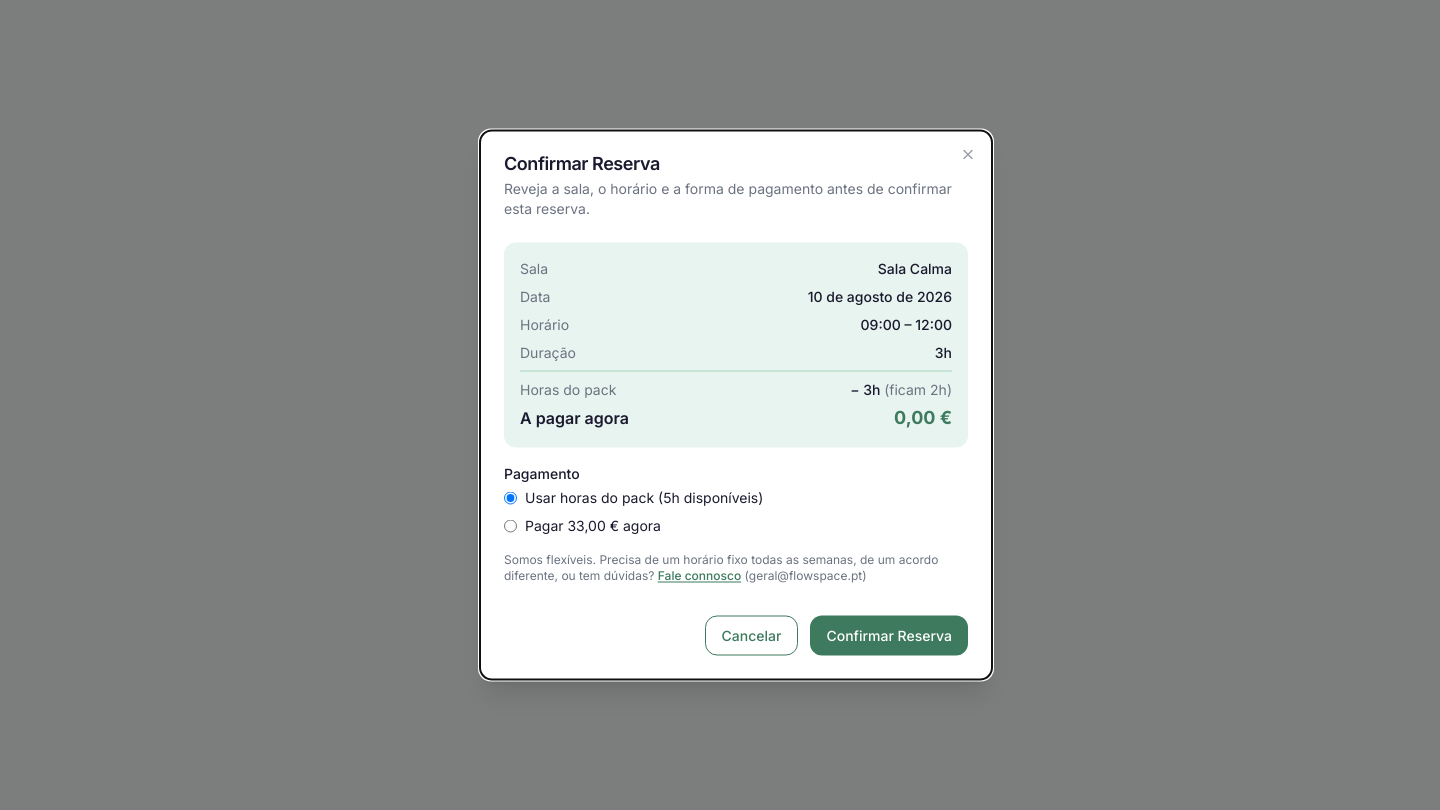
Test case: BookingModal package redemption (Epic 2.4) › keeps a package booking slot conflict distinct from insufficient hours
Expected: the radio button labelled "Usar horas do pack (5h disponíveis)" is shown, [504,491,517,504]
Click the button "Confirmar Reserva": (889, 636) [810,616,968,656]
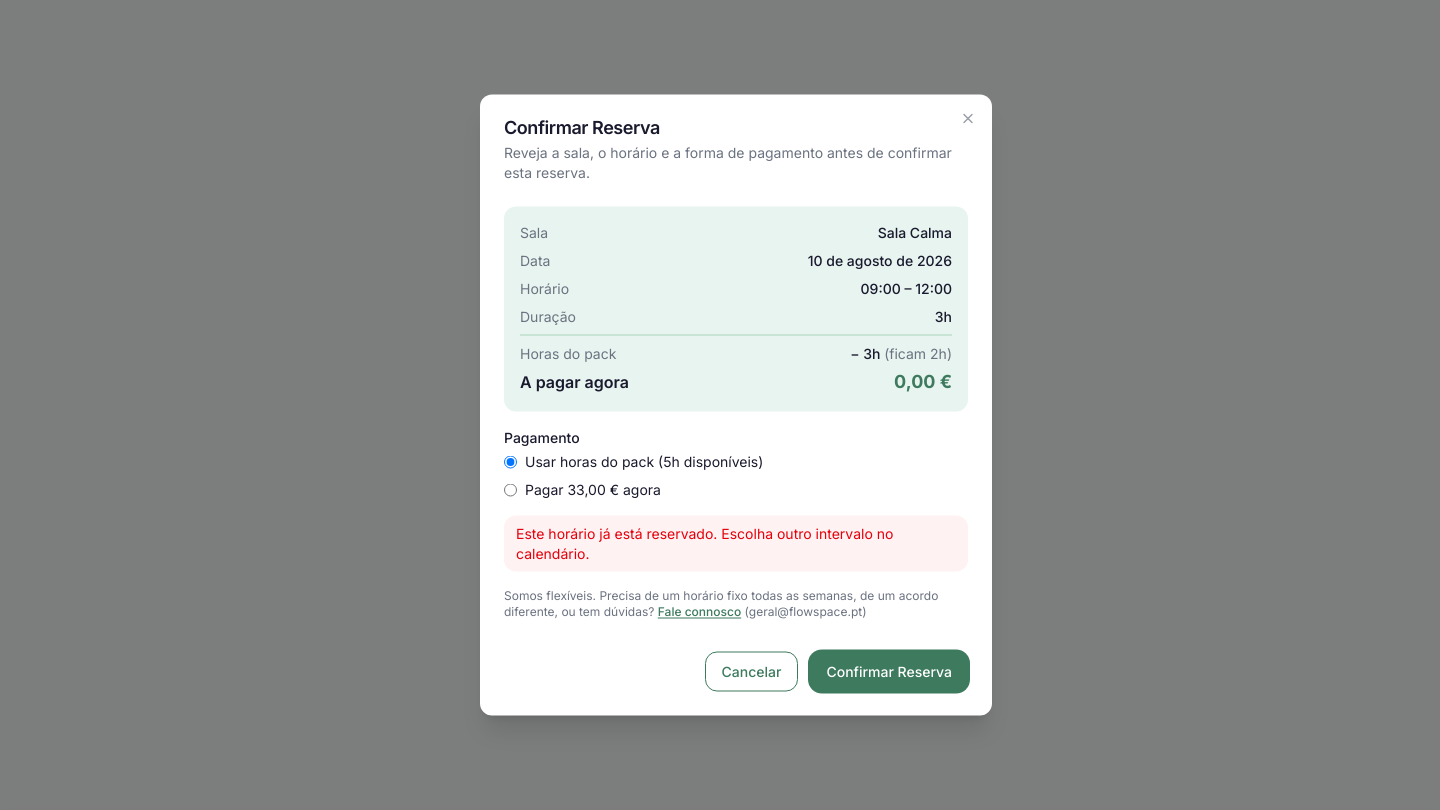
Expected: the message does not show "horas suficientes", [504,516,968,572]
Now the message shows "horário já está reservado", box [516,524,893,562]
